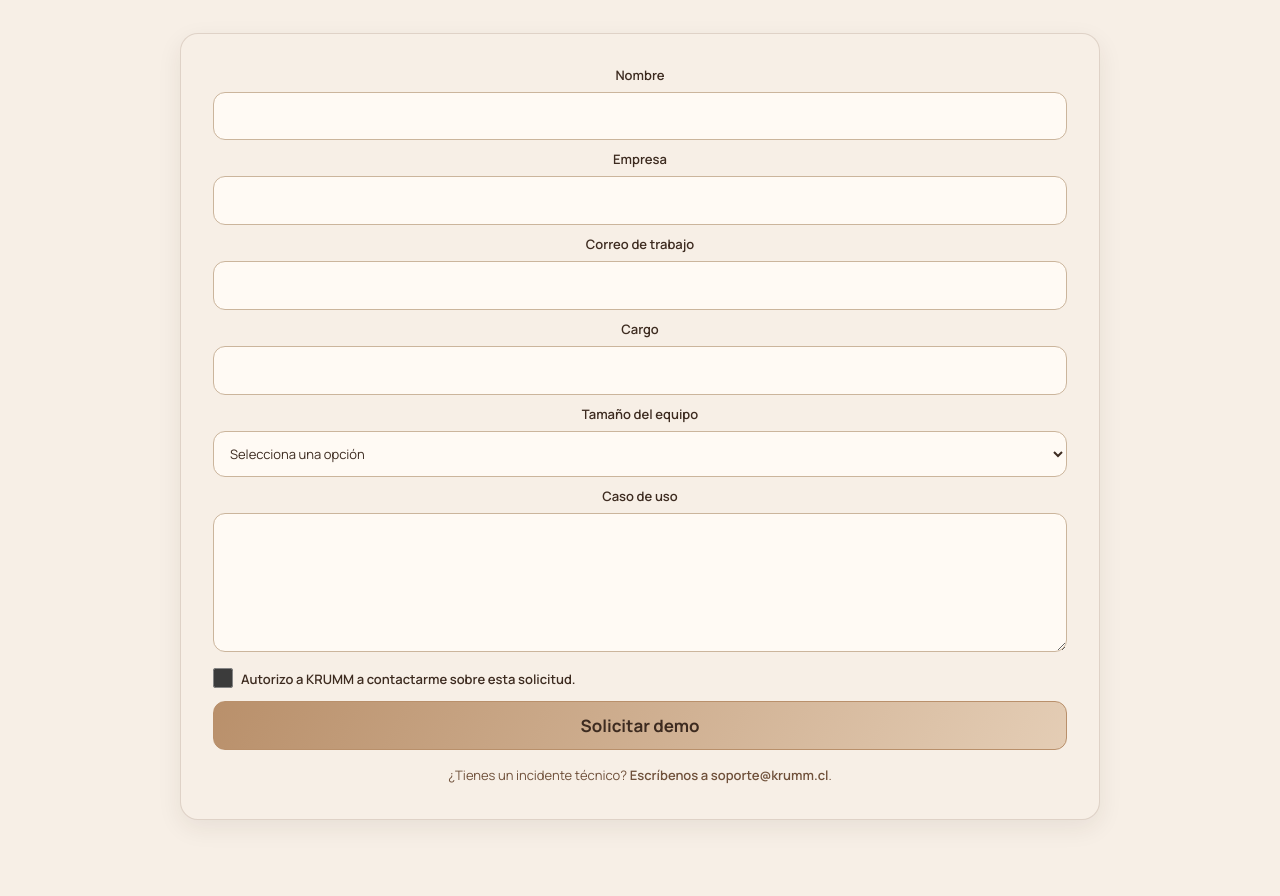
Scenario: DemoRequestPage › validates required fields, email shape, and contact consent before any request
The width and height of the screenshot is (1280, 896).
(page scrolled)
Click the button "Solicitar demo" at (640, 726), box [213,701,1067,750]
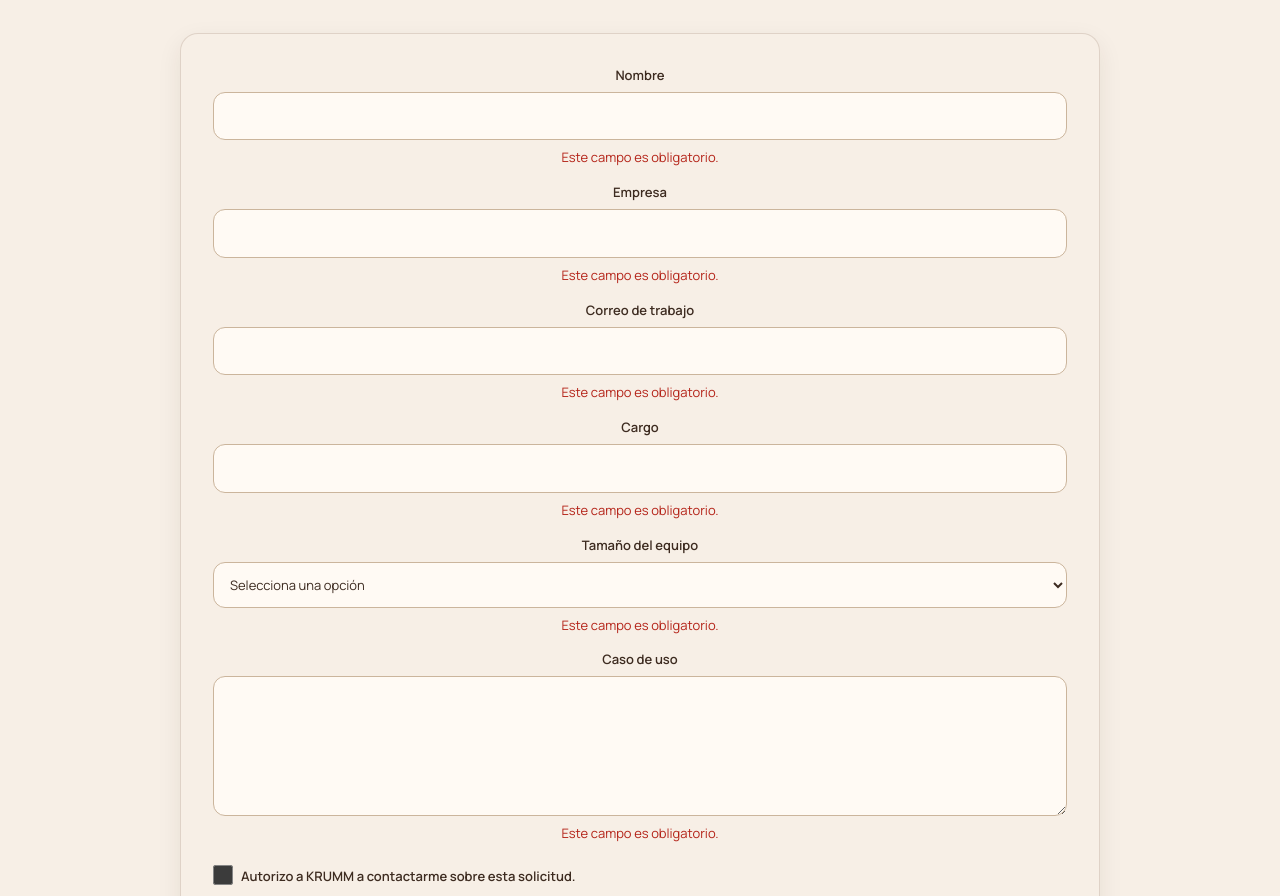
Now the 1st text "Este campo es obligatorio." is shown, box [561,148,719,166]
